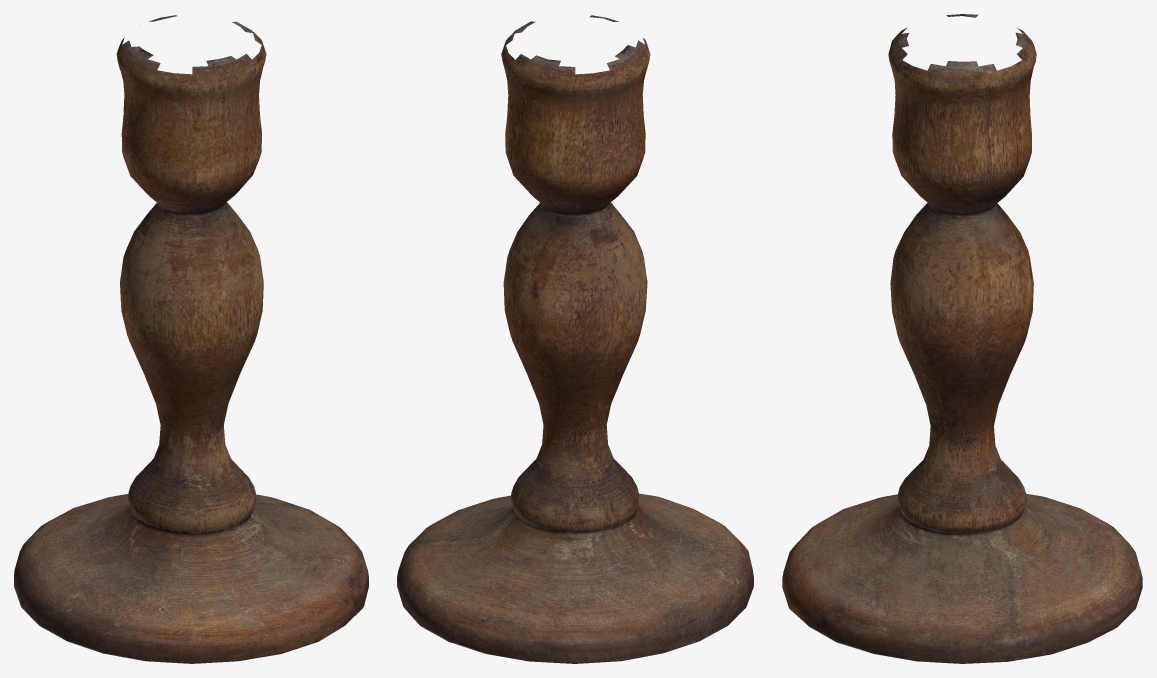
Rendered from wooden-candle-holder.glb.
3 views of the same model, side by side, from view 1: azimuth 30°, elevation 25°; view 2: azimuth 150°, elevation 25°; view 3: azimuth 270°, elevation 25° (orthographic).
Parts seen in each view (by area): view 1: wooden_candlestick; view 2: wooden_candlestick; view 3: wooden_candlestick.
Part boxes in pixels (x1=…): wooden_candlestick: x1=14, y1=15, x2=368, y2=663; wooden_candlestick: x1=397, y1=15, x2=753, y2=663; wooden_candlestick: x1=782, y1=14, x2=1142, y2=663.
Bounding box in the file's own units: 0.0983 × 0.1688 × 0.0999.
Materials: 1 (1 with a texture image).
